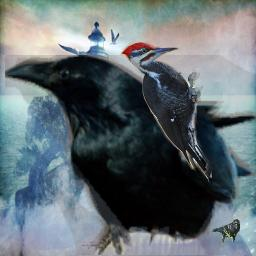Crow: (5, 55, 256, 255), (209, 219, 240, 244)
Woodpecker: (120, 41, 212, 183)
